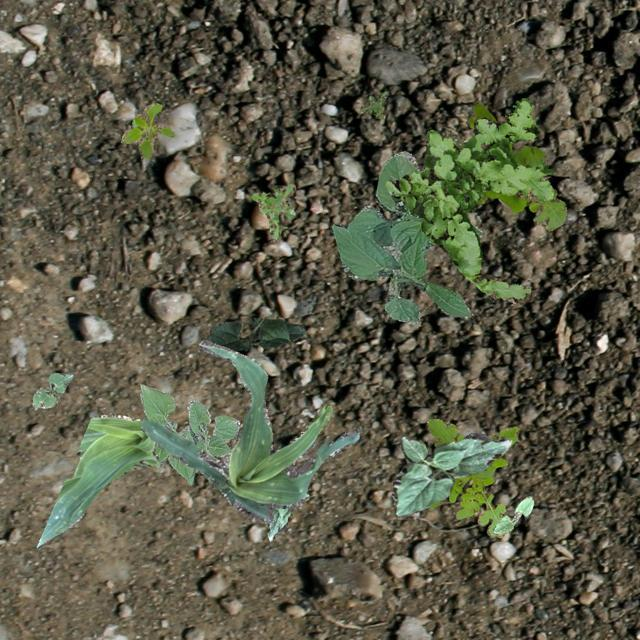crop: (140, 338, 360, 522), (331, 150, 482, 326), (36, 414, 158, 546), (390, 432, 510, 516), (138, 384, 238, 484), (204, 316, 304, 349), (266, 490, 308, 540), (31, 372, 74, 408), (492, 496, 532, 532)
weed: (384, 96, 552, 304), (466, 103, 566, 230), (427, 418, 518, 536), (120, 101, 172, 158), (250, 182, 294, 238), (359, 90, 386, 118)
